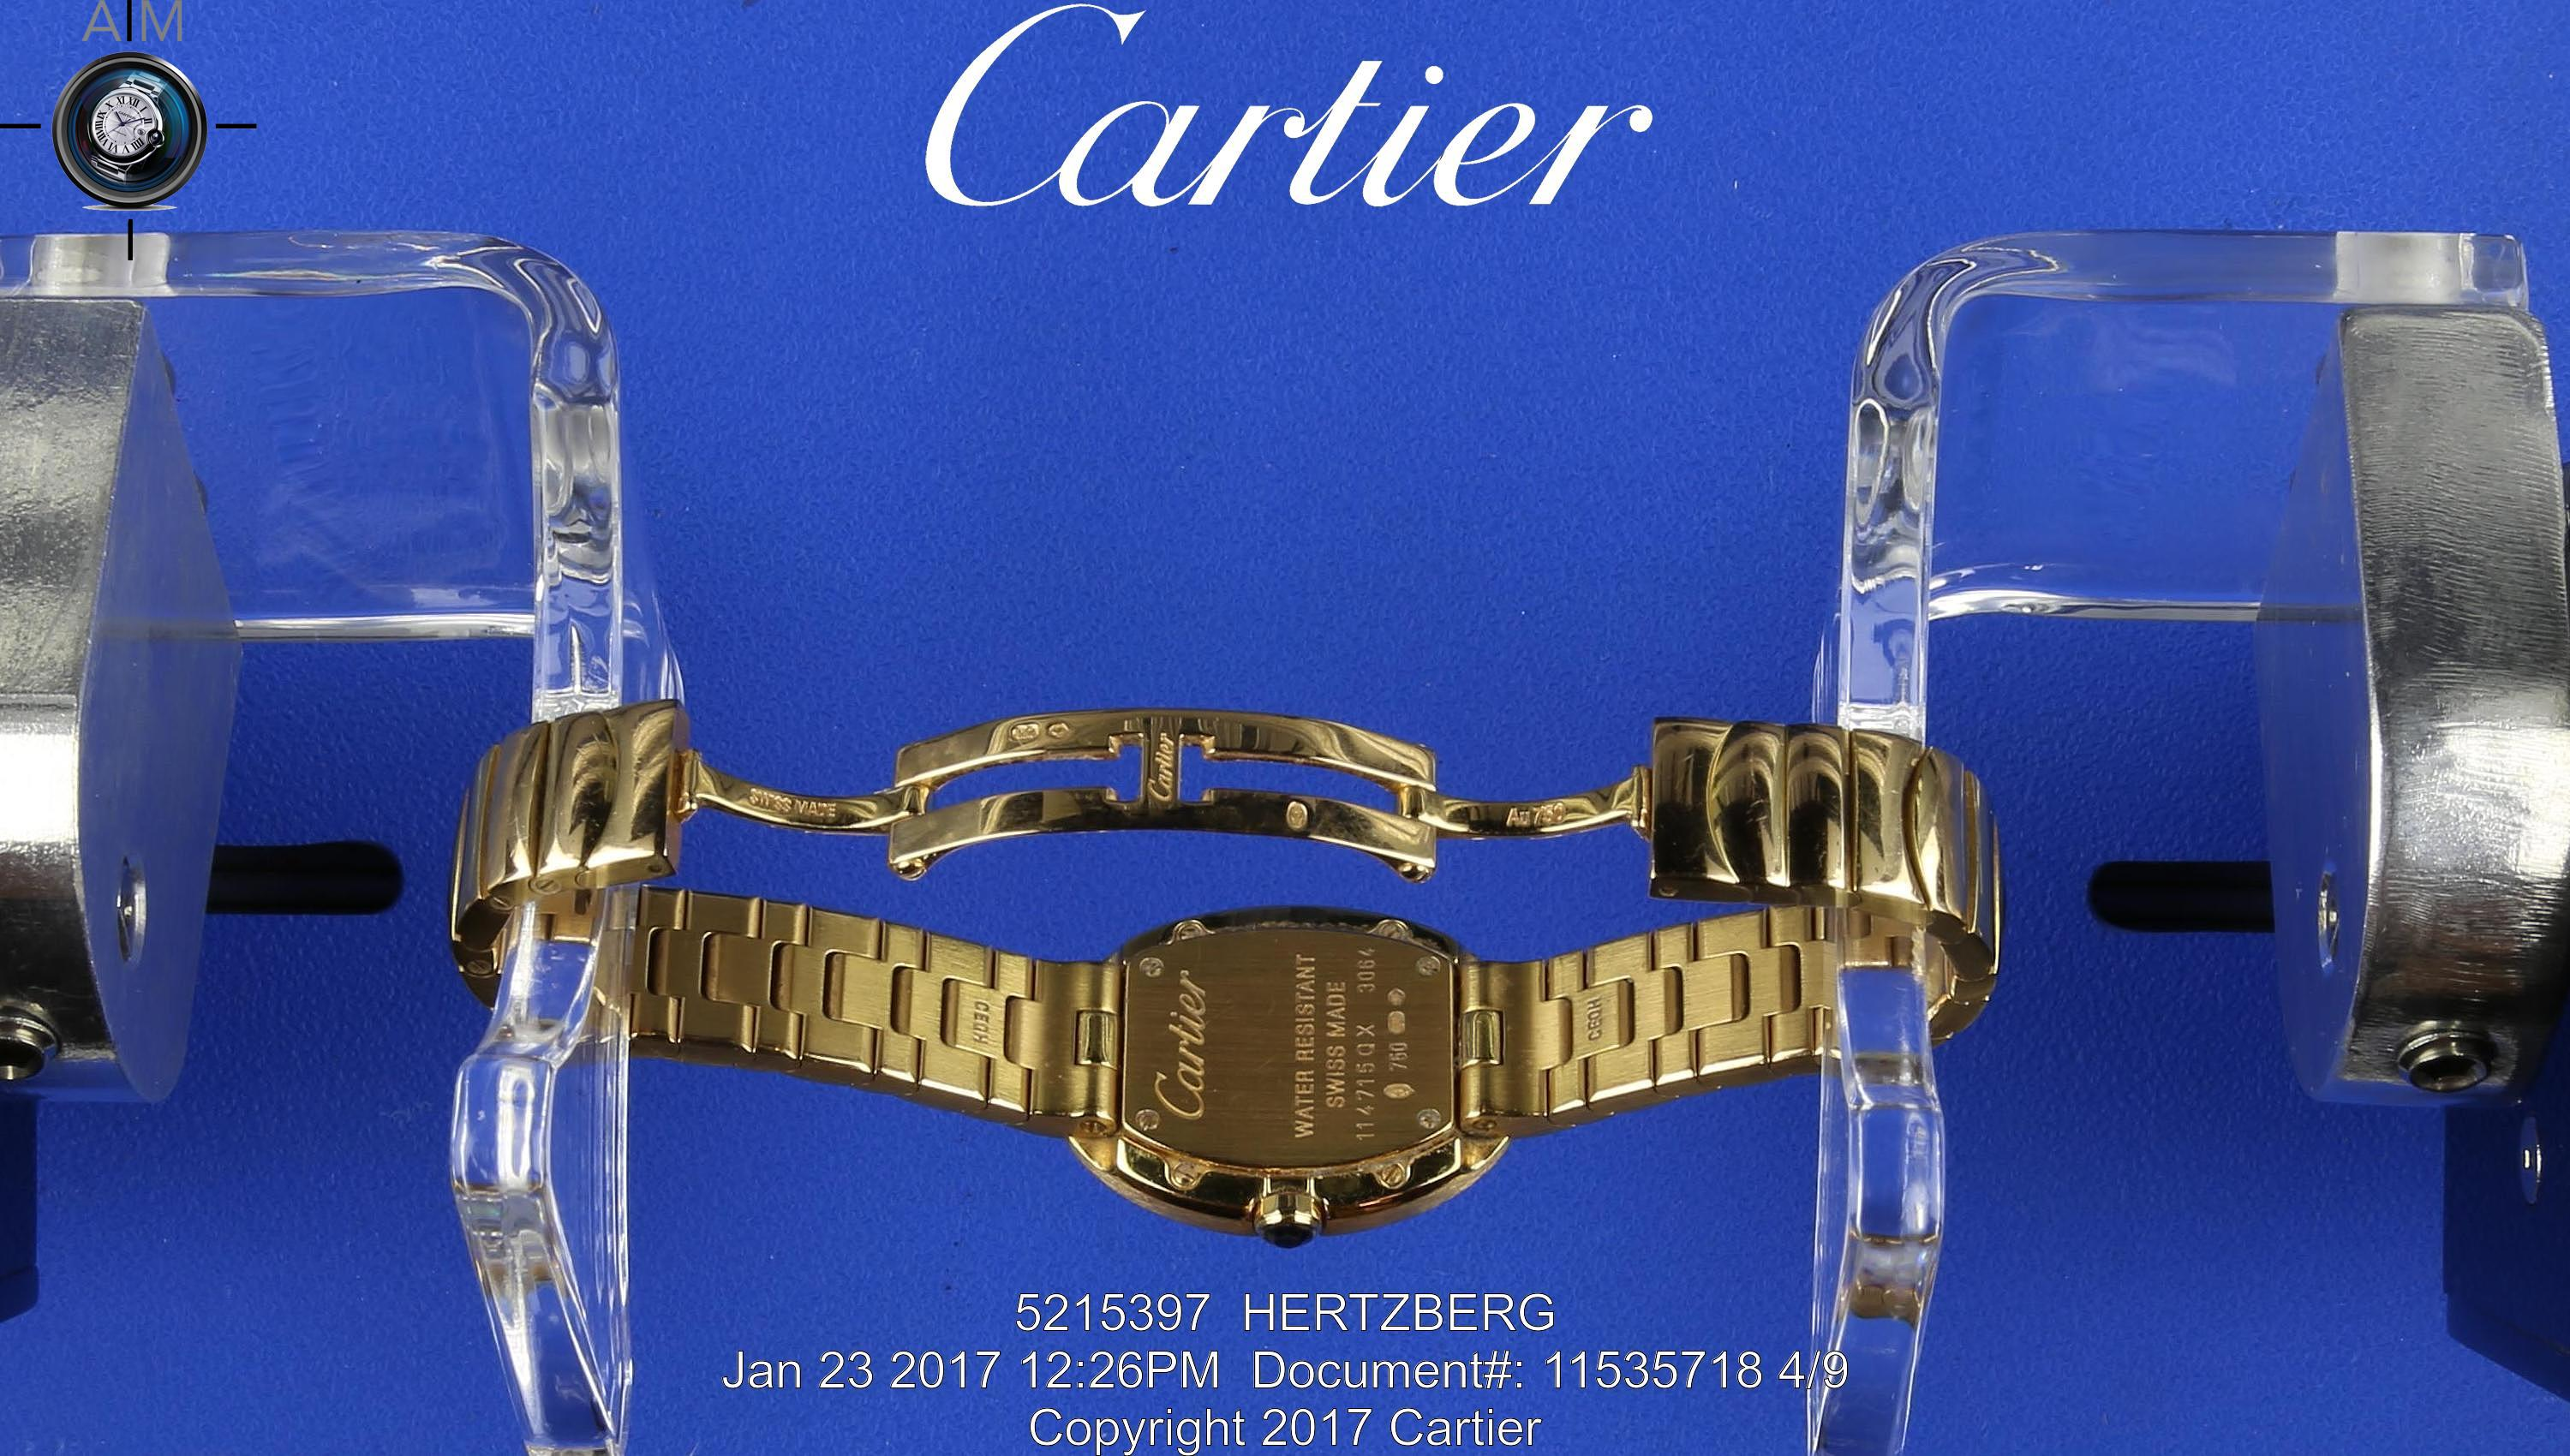Watch Back Case: (1059, 904, 1520, 1244)
